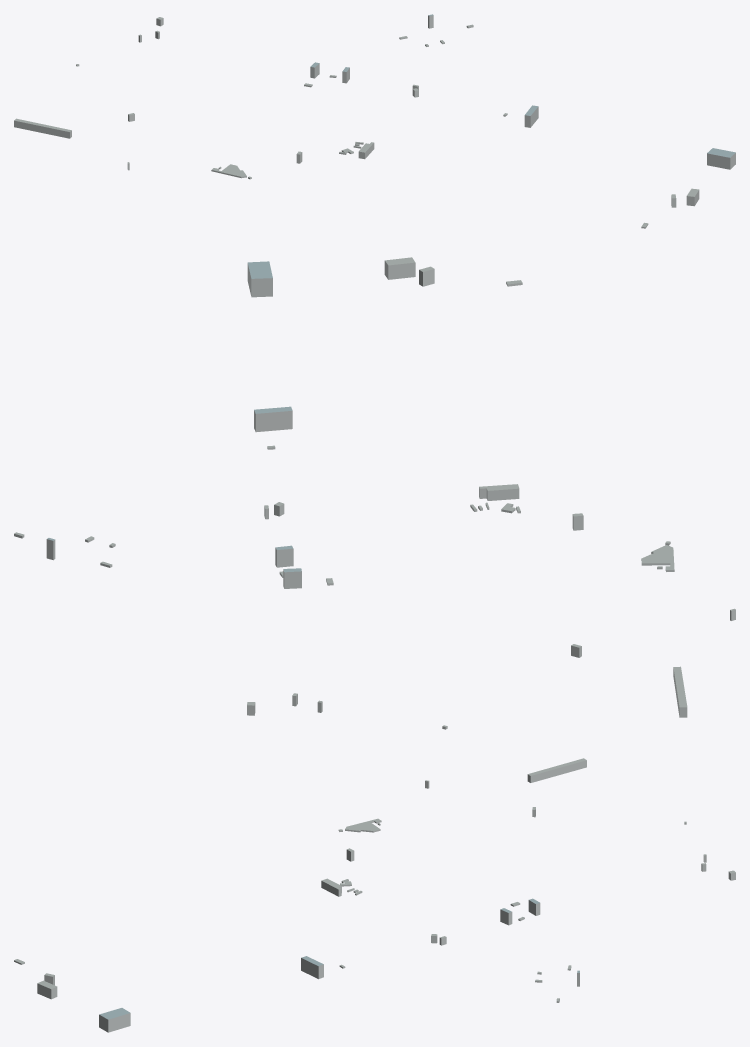
3 views of the same model, one above another, from view 1: azimuth 30°, elevation 25°; view 2: azimuth 150°, elevation 25°; view 3: azimuth 270°, elevation 25° (orthographic). The views are drawn at different scales.
Parts seen in each view (by area): view 1: 上海全域建筑分块 · mapped building neighborhood; view 2: 上海全域建筑分块 · mapped building neighborhood; view 3: 上海全域建筑分块 · mapped building neighborhood.
Part boxes in pixels (box(x1,y1,x2,y2)): 上海全域建筑分块 · mapped building neighborhood: box(14, 14, 735, 228); 上海全域建筑分块 · mapped building neighborhood: box(14, 257, 735, 729); 上海全域建筑分块 · mapped building neighborhood: box(14, 758, 735, 1032).
Size of the model in its own units: 954 by 22.7 by 1089.
